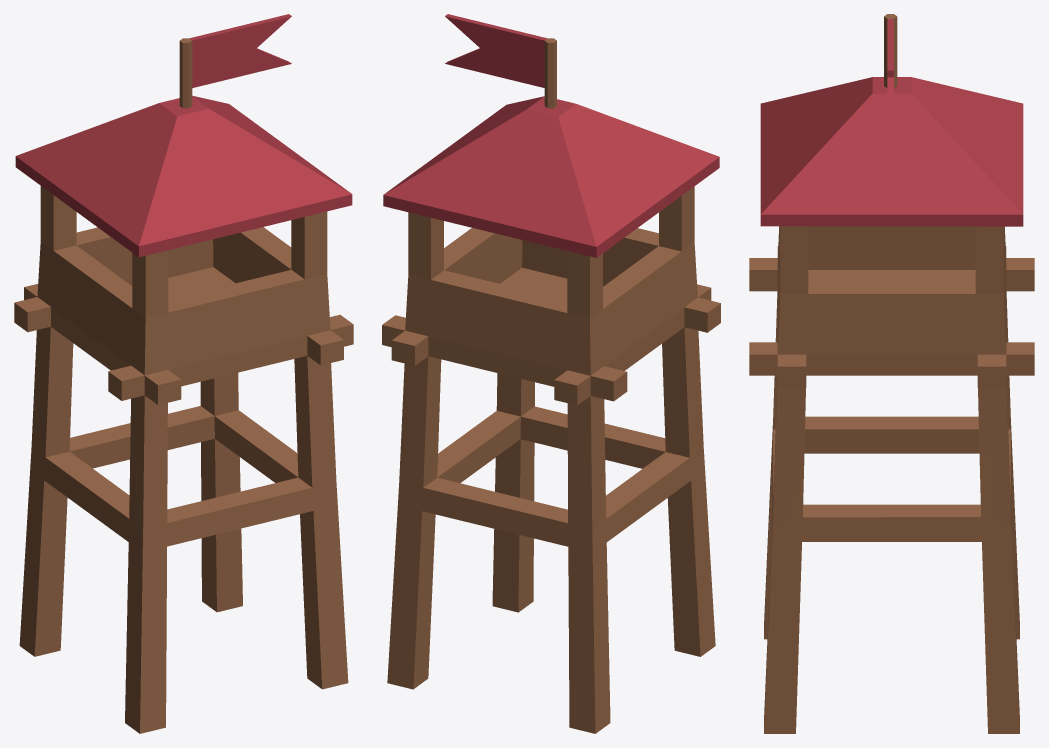
The model's file is Tower.gltf.
3 views of the same model, side by side, from view 1: azimuth 30°, elevation 25°; view 2: azimuth 150°, elevation 25°; view 3: azimuth 270°, elevation 25° (orthographic). The views are drawn at different scales.
Parts seen in each view (by area): view 1: Cube.022; view 2: Cube.022; view 3: Cube.022.
Part boxes in pixels (x1,y1,x2,y2): Cube.022: (14,14,353,733); Cube.022: (382,14,720,733); Cube.022: (749,14,1034,733).
Bounding box in the file's own units: 1.49 × 3.84 × 1.49.
